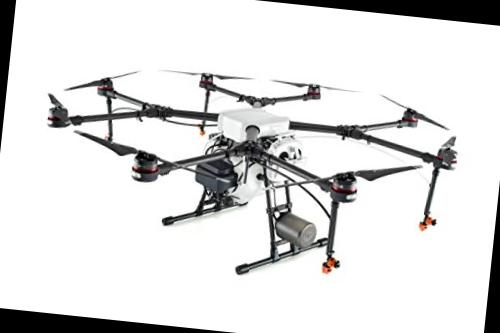drone: (30, 34, 476, 272)
